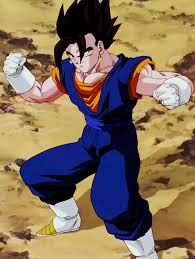Vegito: (55, 2, 115, 73)
